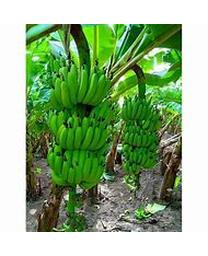banana: (45, 62, 117, 192), (120, 95, 161, 179)
